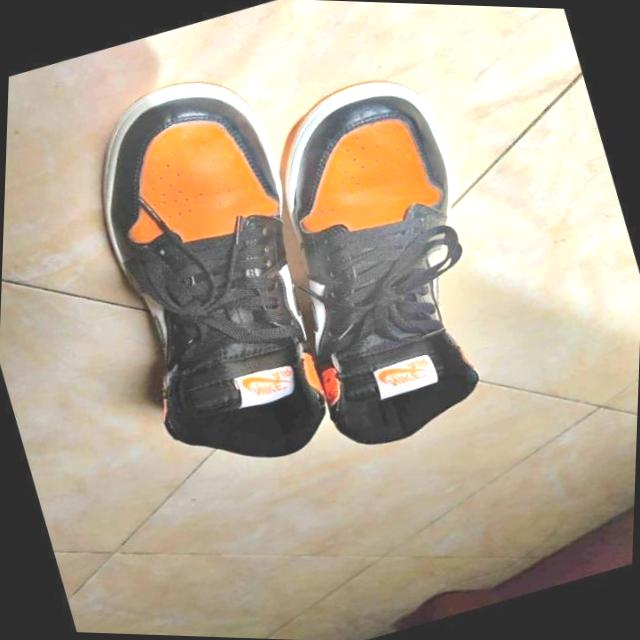nike_fake_jordan: (51, 51, 378, 499), (230, 61, 532, 465)
